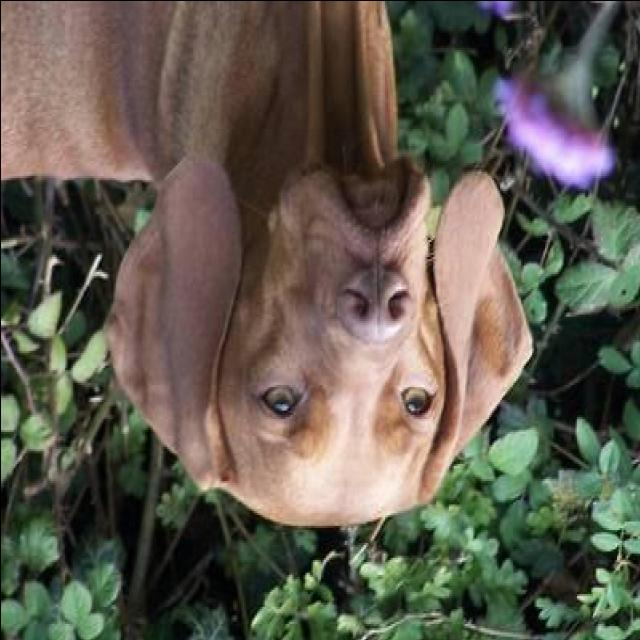vizsla: (1, 2, 532, 531)
